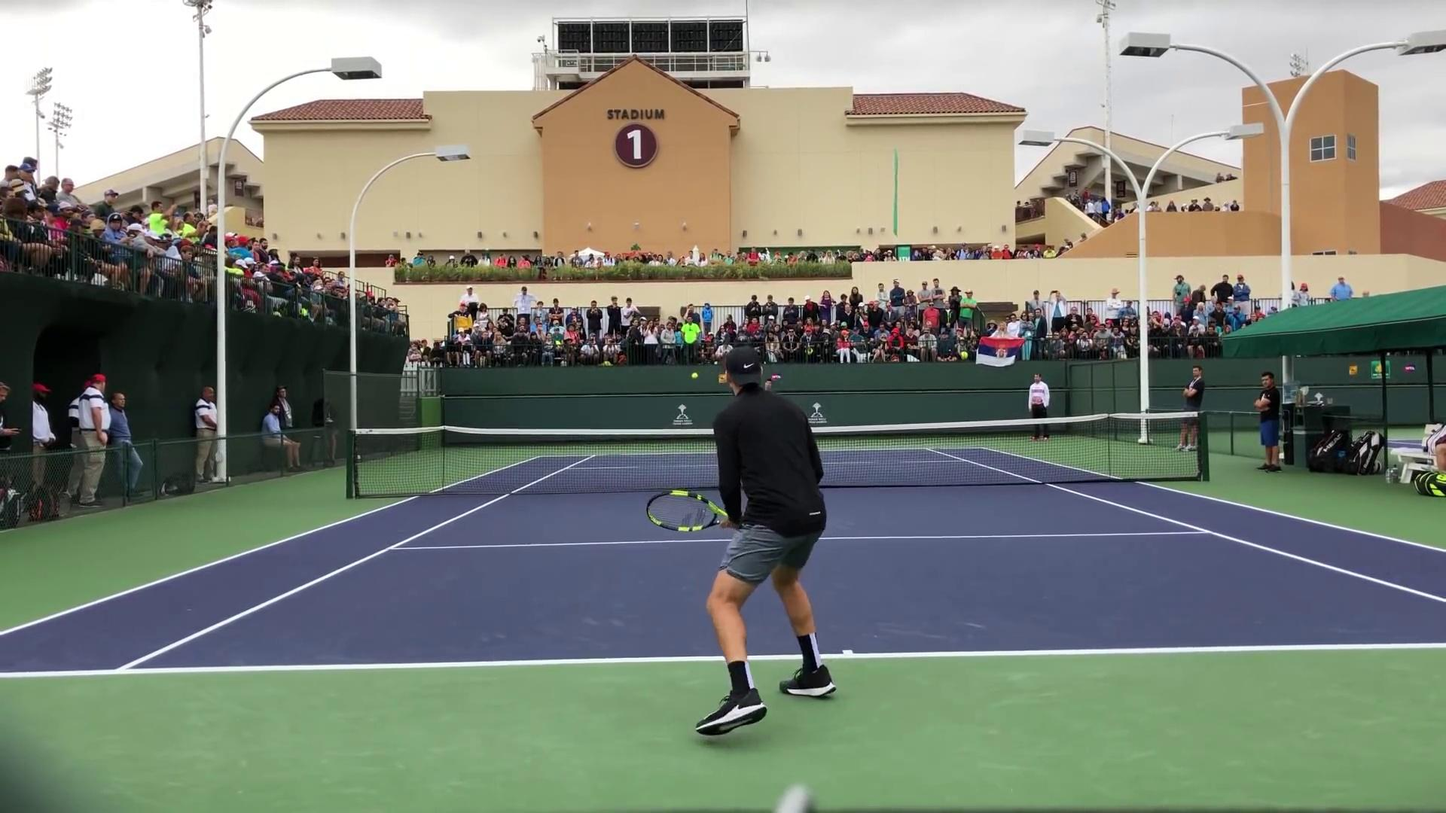ball: (690, 372, 700, 380)
